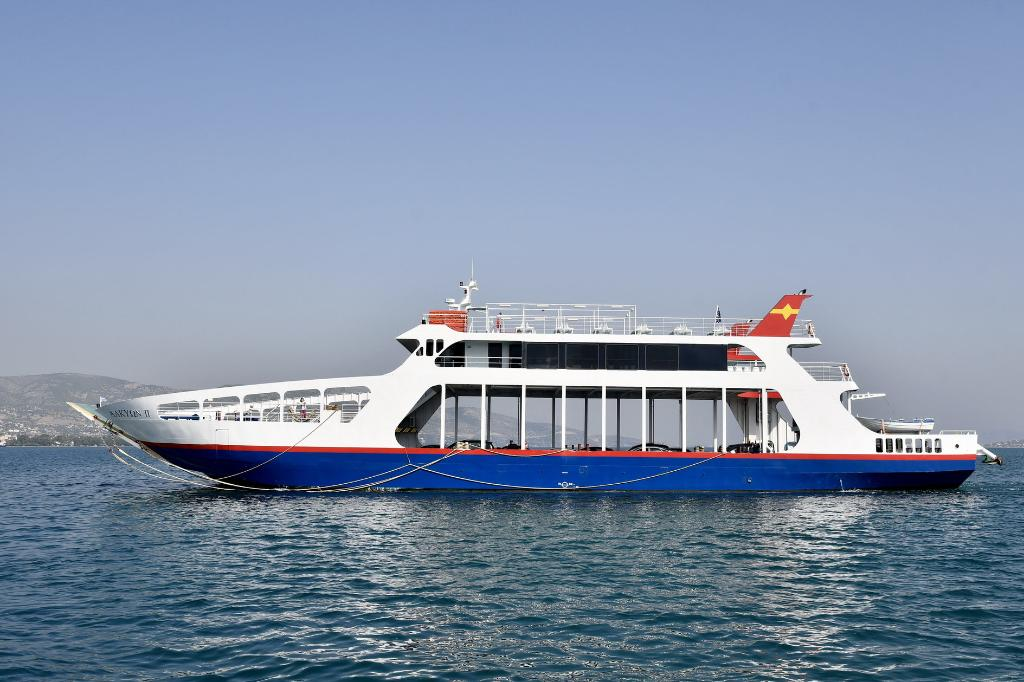PassengerShip: (51, 268, 1009, 495)
